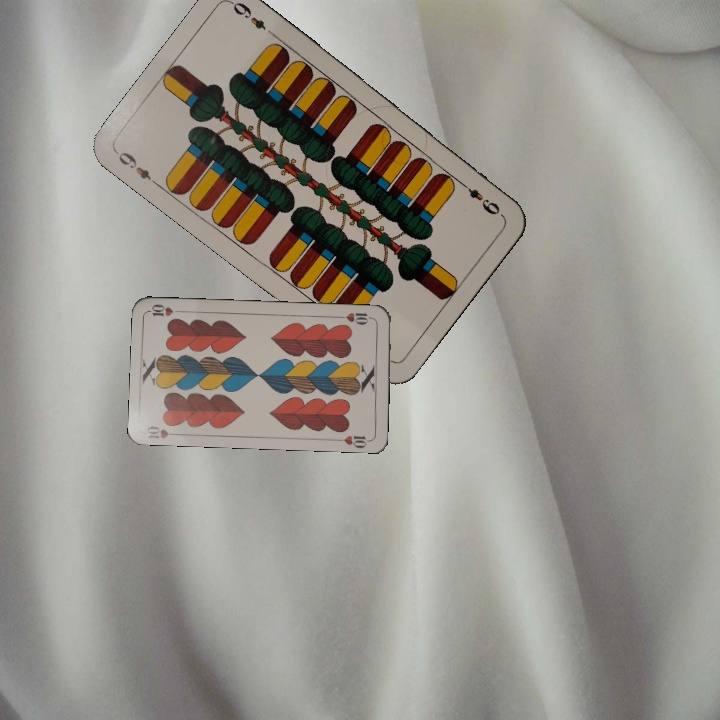E9: (455, 177, 505, 219), (112, 147, 162, 189)
H10: (335, 308, 376, 327), (143, 422, 183, 441)
